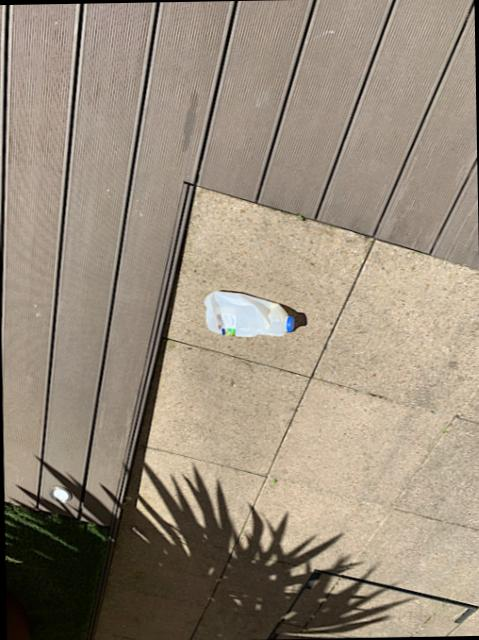plastic: (204, 292, 294, 337)
